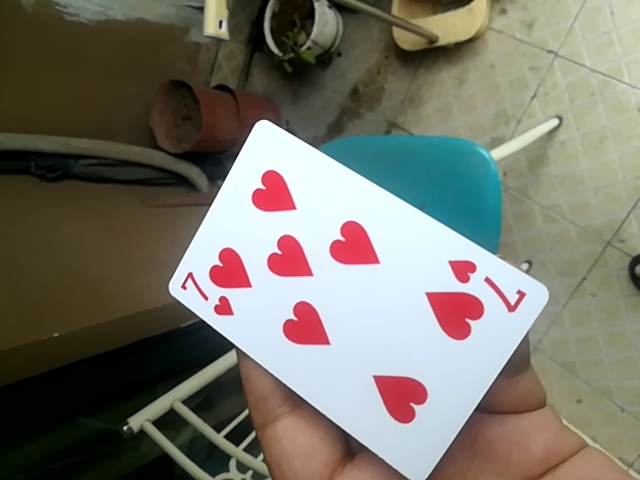hx 7: (165, 123, 554, 480)
